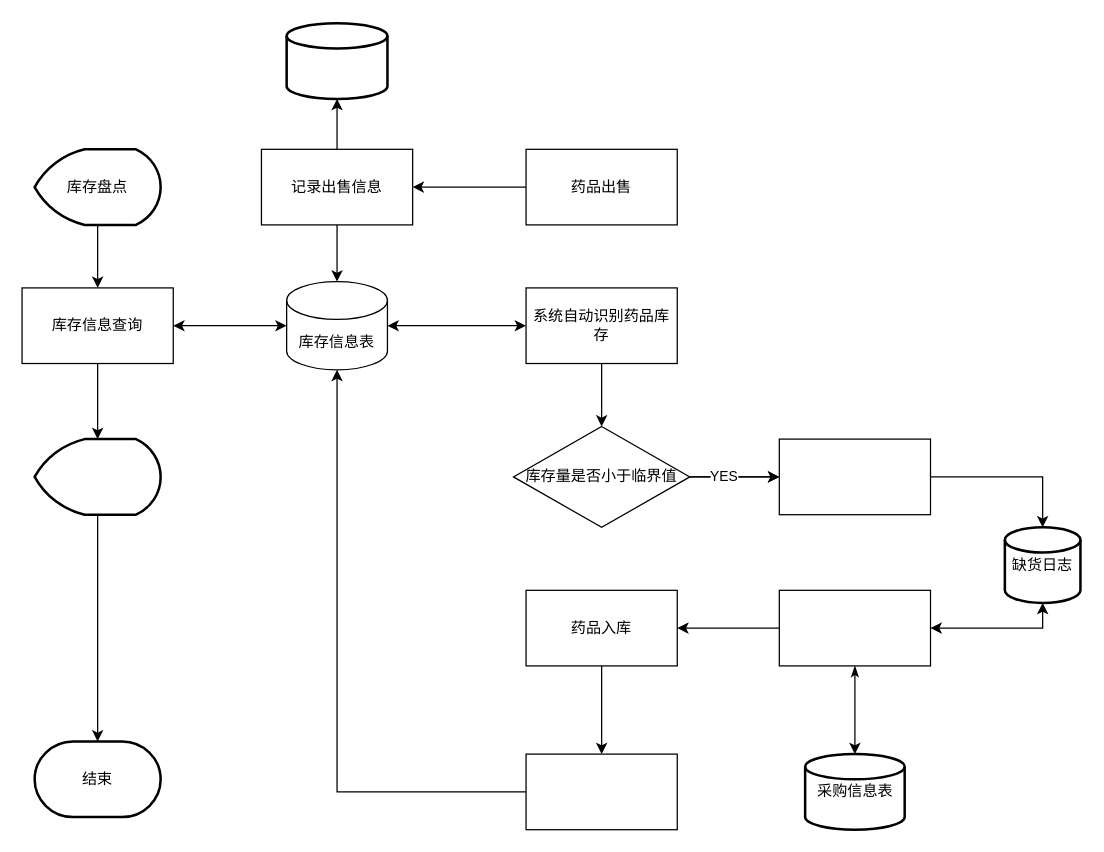
This 1104x852 diagram has some shape labels left out. The box of each missing label's shape, as (x1, y1, x2, y2) in pixels:
新增缺货日志: (778, 438, 931, 515)
药品库存信息: (33, 437, 161, 515)
记录入库信息: (525, 753, 677, 830)
采购药品: (778, 589, 931, 666)
顾客信息表: (285, 21, 388, 100)
